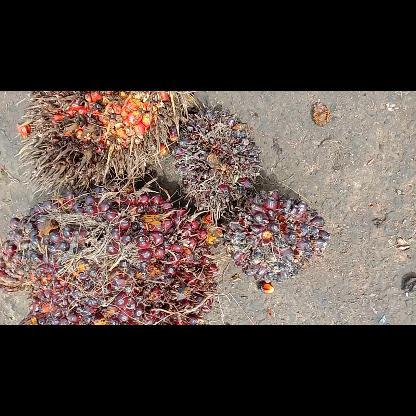TBS abnormal: (171, 104, 263, 220), (226, 188, 332, 284)
TBS masak: (0, 184, 220, 324)
Terlalu masak: (11, 92, 192, 192)
